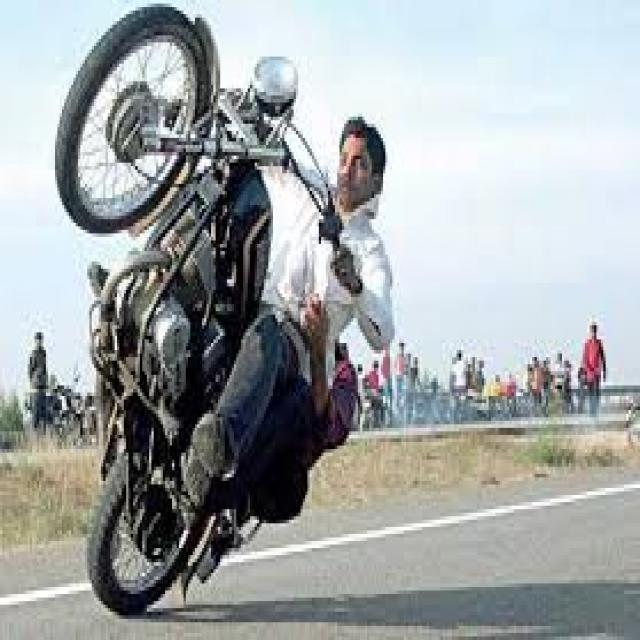Wheeling: (45, 0, 388, 608)
